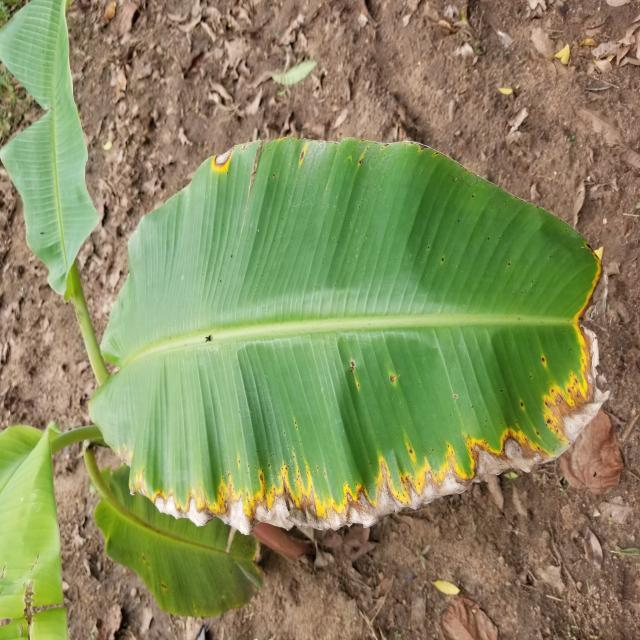Early_rust: (91, 328, 640, 556), (545, 234, 615, 367), (165, 116, 262, 203)
